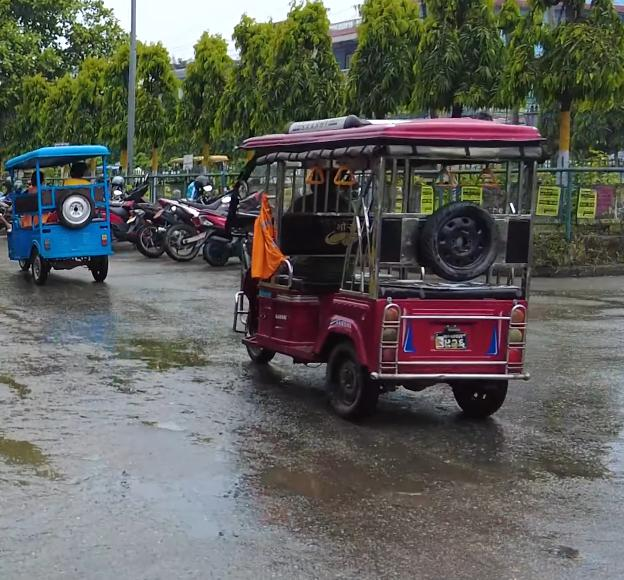e-rickshaw: (217, 114, 537, 426), (7, 142, 122, 292)
